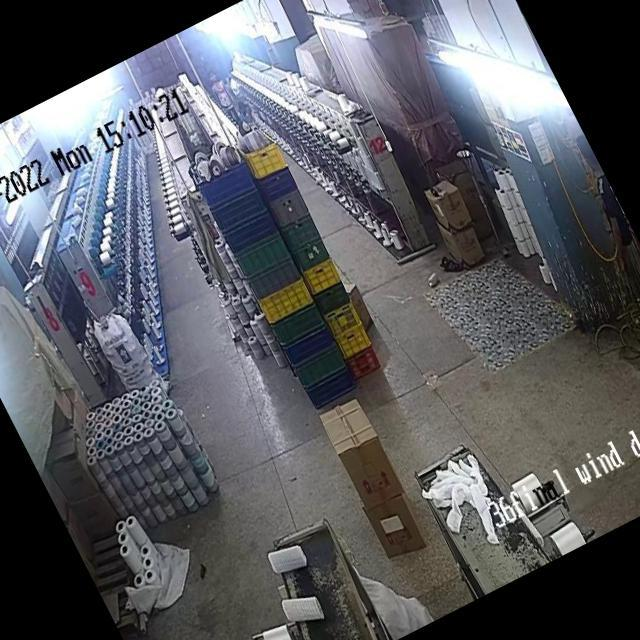person: (208, 68, 245, 124), (244, 100, 269, 133), (238, 105, 259, 132)
